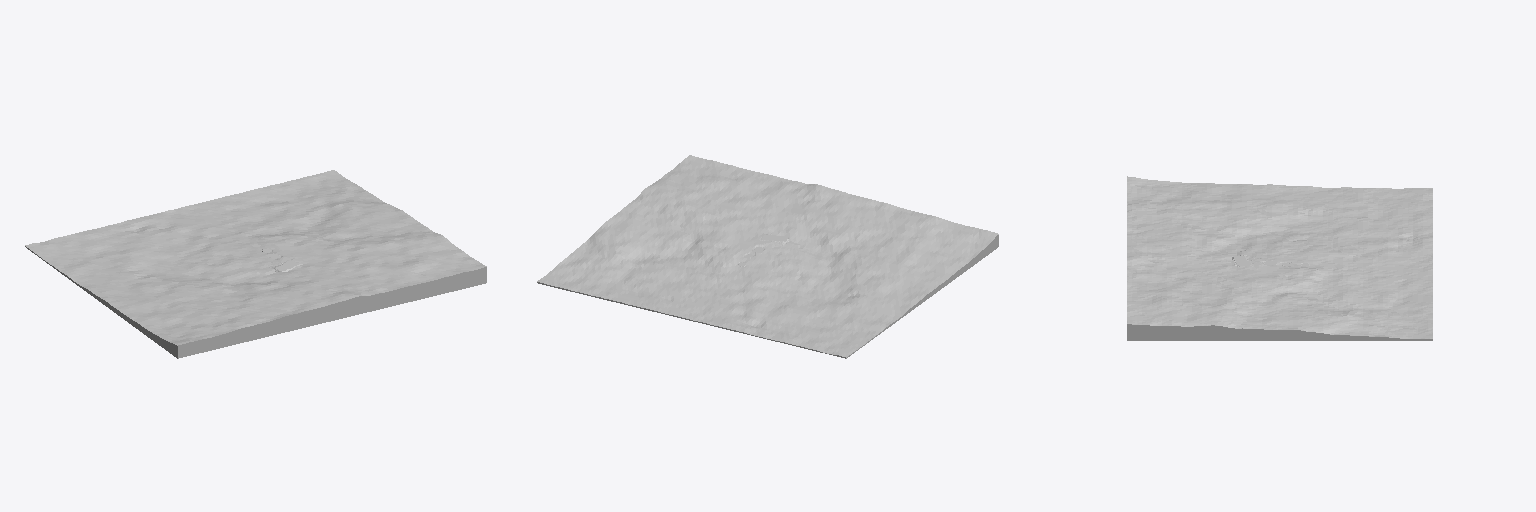
Rendered from Terrain.obj.
3 renders of one model, left to right at view 1: azimuth 30°, elevation 25°; view 2: azimuth 150°, elevation 25°; view 3: azimuth 270°, elevation 25°, orthographic.
Visible parts, largest first — view 1: Terrain; view 2: Terrain; view 3: Terrain.
Boxes of the visible parts, box(x1,y1,x2,y2) form: Terrain: box(25, 170, 486, 358); Terrain: box(537, 155, 998, 358); Terrain: box(1127, 176, 1432, 340).
Bounding box in the file's own units: 2205 × 123 × 1886.